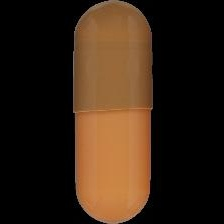65862-598: (0, 0, 224, 224)
